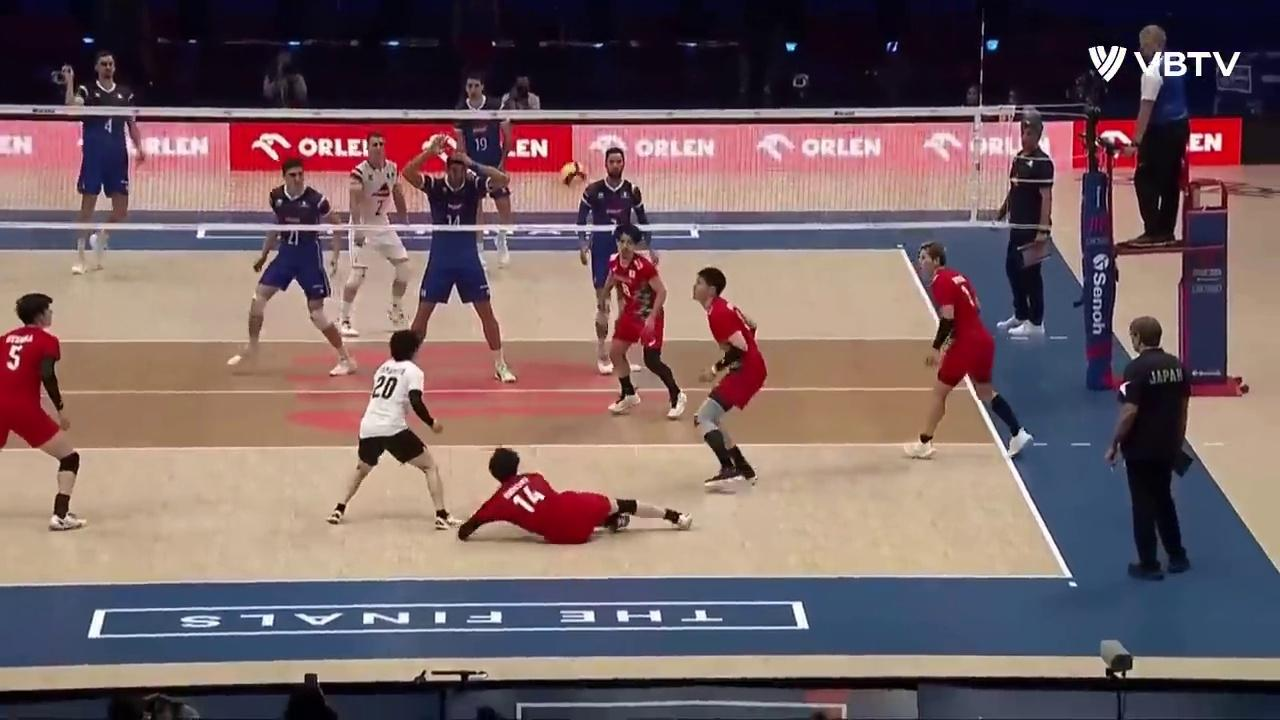ball: (562, 162, 588, 187)
